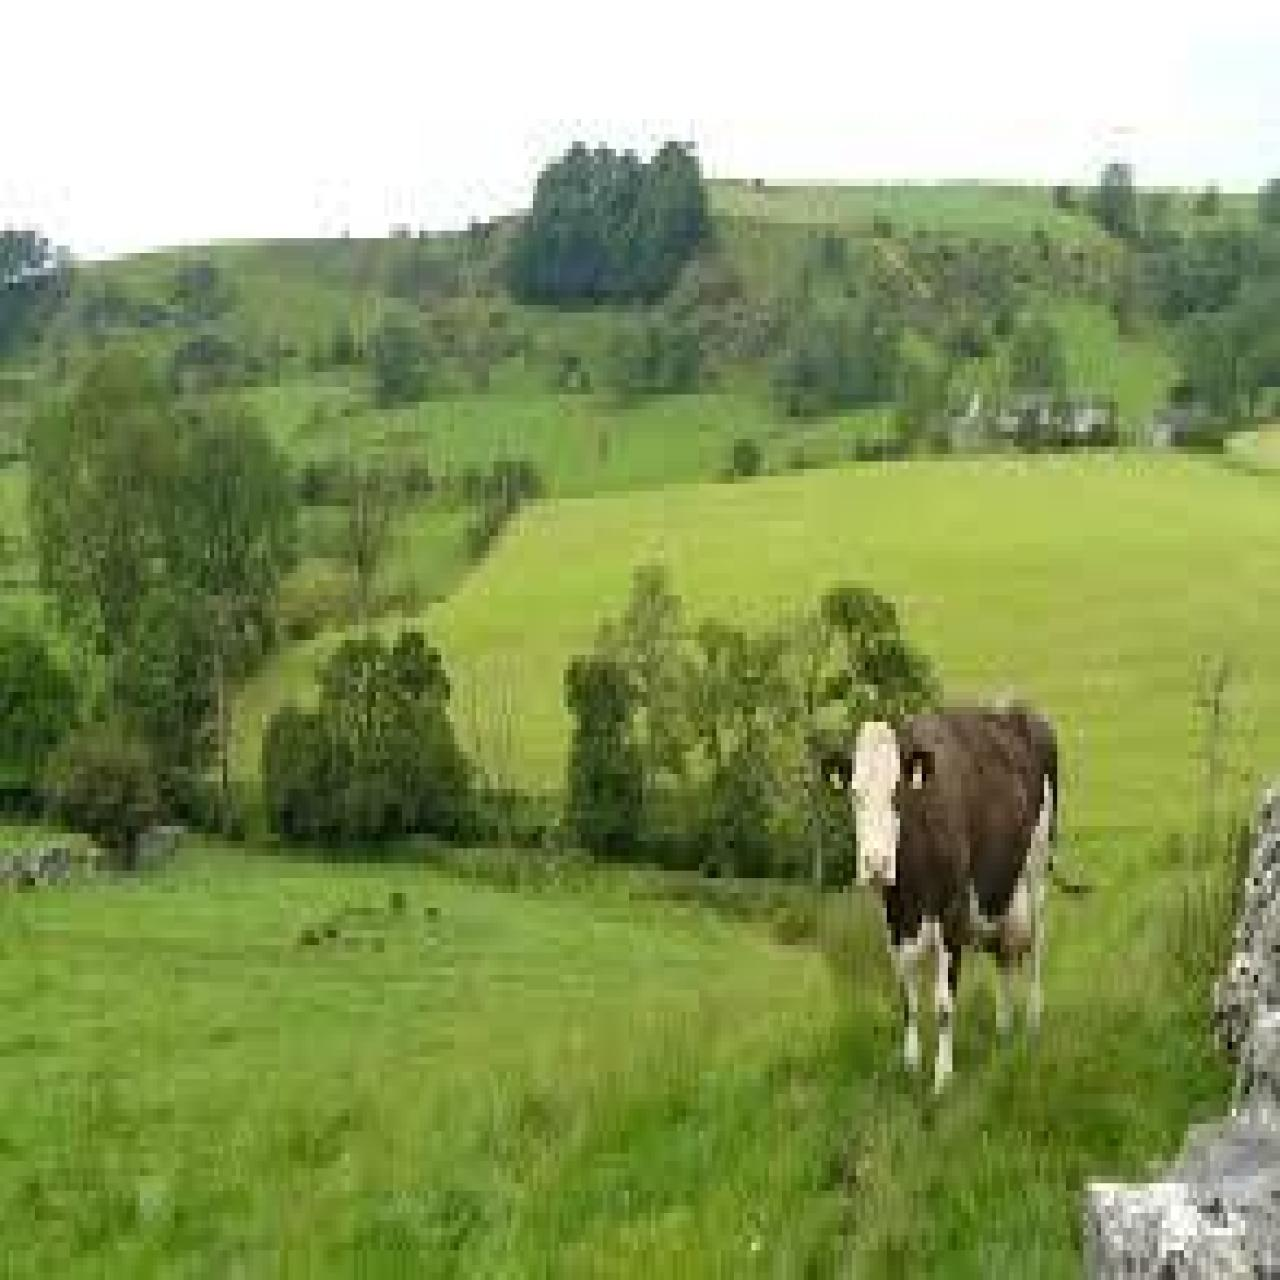cow: (817, 700, 1061, 1094)
